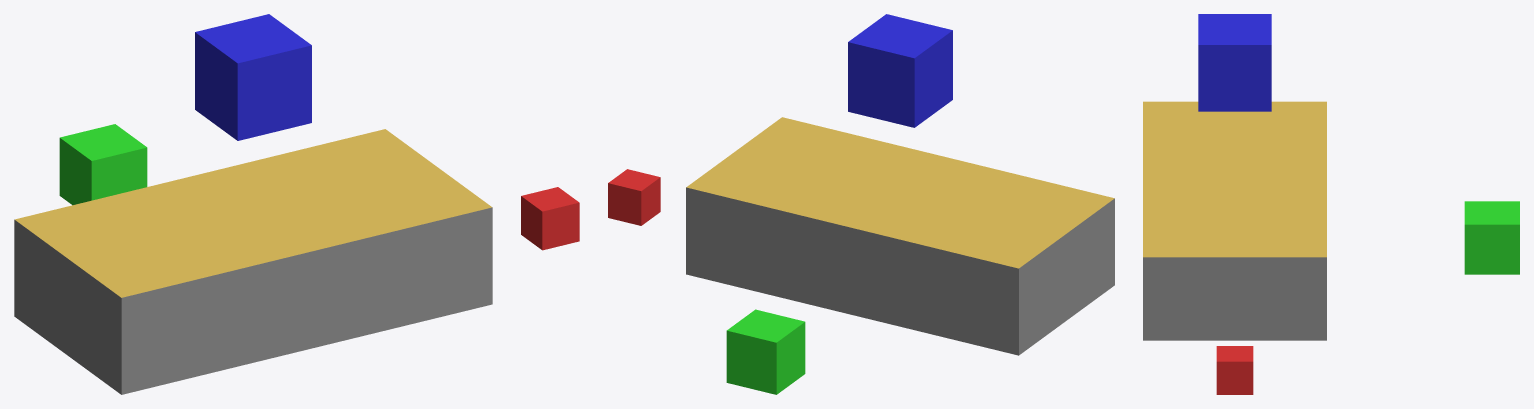
The model's file is pipeline_probe.glb.
3 renders of one model, left to right at view 1: azimuth 30°, elevation 25°; view 2: azimuth 150°, elevation 25°; view 3: azimuth 270°, elevation 25°, orthographic. The views are drawn at different scales.
Visible parts, largest first — view 1: probe_body, axis_z, axis_y, axis_x; view 2: probe_body, axis_z, axis_y, axis_x; view 3: probe_body, axis_z, axis_y, axis_x.
Part boxes in pixels (x1,y1,x2,y2): probe_body: (14, 129, 492, 394); axis_z: (195, 14, 311, 140); axis_y: (59, 124, 147, 205); axis_x: (521, 187, 579, 250); probe_body: (686, 117, 1114, 355); axis_z: (848, 14, 952, 127); axis_y: (726, 309, 805, 394); axis_x: (608, 169, 660, 225); probe_body: (1143, 101, 1326, 340); axis_z: (1198, 14, 1271, 111); axis_y: (1464, 201, 1519, 274); axis_x: (1216, 346, 1253, 394).
Bounding box in the file's own units: 0.27 × 0.14 × 0.205.
